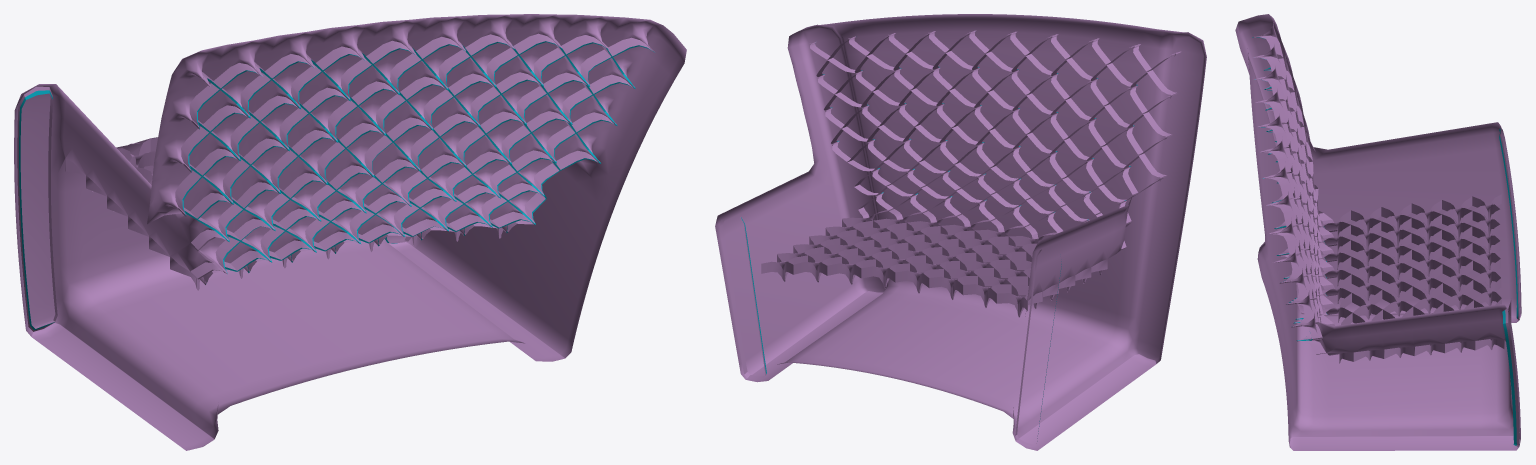
Rendered from asset.glb.
The picture shows the model from 3 angles, left to right: view 1: azimuth 30°, elevation 25°; view 2: azimuth 150°, elevation 25°; view 3: azimuth 270°, elevation 25°; orthographic projection. The views are drawn at different scales.
Visible parts, largest first — view 1: chair; view 2: chair; view 3: chair.
Boxes of the visible parts, x1=… form: chair: x1=14, y1=14, x2=686, y2=450; chair: x1=715, y1=14, x2=1206, y2=450; chair: x1=1235, y1=14, x2=1521, y2=450.
Bounding box in the file's own units: 33.14 × 25.63 × 22.21.
